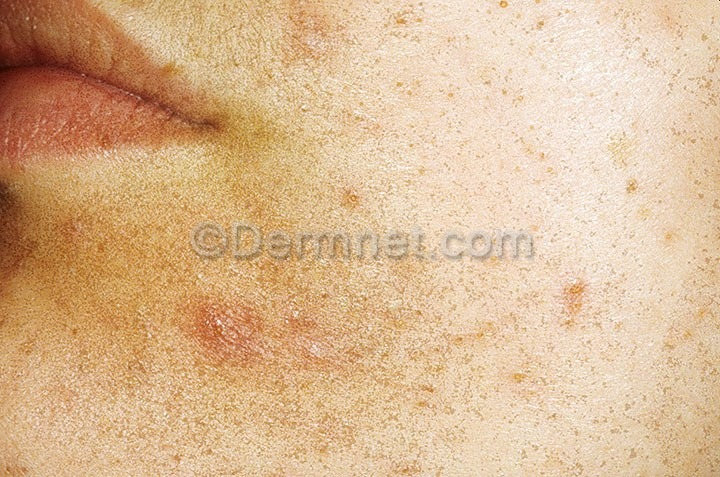Acne: (125, 240, 356, 391)
